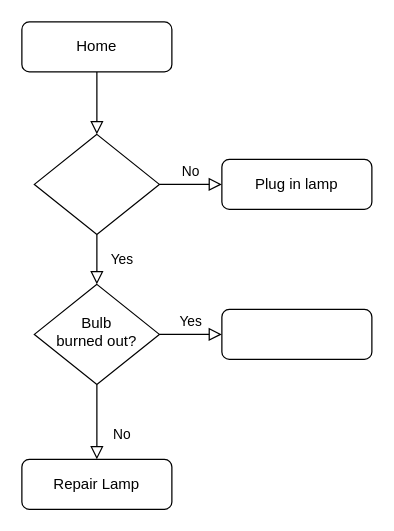
The diagram is 394 pixels wide and 531 high, and some of its shapes have lost their labels. The shapes that lost their labels are listed below. From the top down, each one's centre as x and y in pixels, then its label:
At pixel 96 183: "Lamp plugged in?".
At pixel 296 333: "Replace Bulb".
